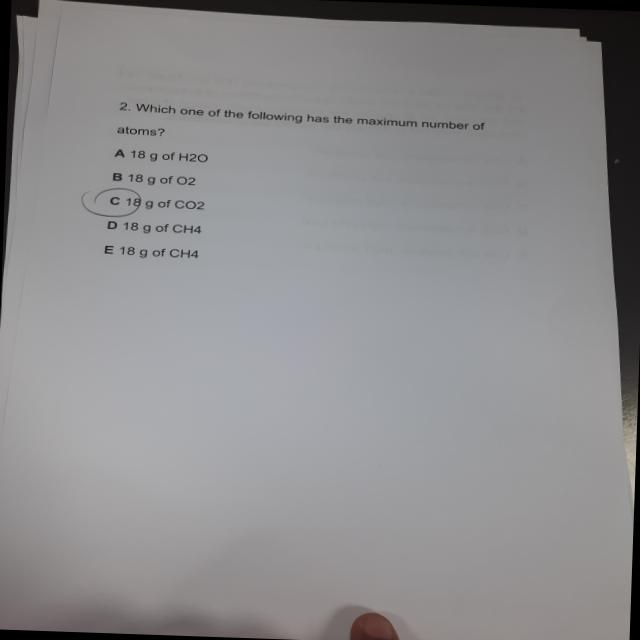C: (83, 187, 145, 219)
